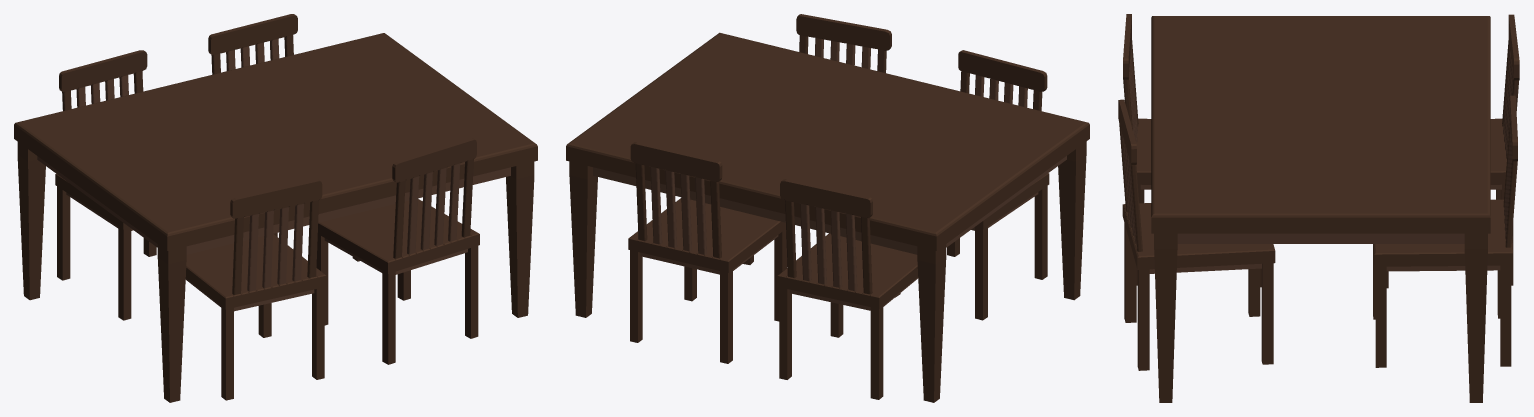
File: table.glb
3 renders of one model, left to right at view 1: azimuth 30°, elevation 25°; view 2: azimuth 150°, elevation 25°; view 3: azimuth 270°, elevation 25°, orthographic. The views are drawn at different scales.
Parts seen in each view (by area): view 1: table, Chair 4, Chair 3, Chair 2, Chair 1; view 2: table, Chair 1, Chair 2, Chair 3, Chair 4; view 3: table, Chair 4, Chair 1, Chair 2, Chair 3.
Boxes of the visible parts, left/top/right/bottom form: table: left=14, top=33, right=537, bottom=402; Chair 4: left=316, top=138, right=479, bottom=364; Chair 3: left=185, top=179, right=326, bottom=400; Chair 2: left=55, top=50, right=156, bottom=320; Chair 1: left=208, top=14, right=359, bottom=261; table: left=566, top=32, right=1089, bottom=402; Chair 1: left=628, top=142, right=787, bottom=363; Chair 2: left=777, top=179, right=918, bottom=399; Chair 3: left=895, top=50, right=1049, bottom=320; Chair 4: left=743, top=14, right=891, bottom=264; table: left=1151, top=16, right=1490, bottom=402; Chair 4: left=1118, top=99, right=1275, bottom=370; Chair 1: left=1373, top=95, right=1517, bottom=367; Chair 2: left=1386, top=14, right=1519, bottom=288; Chair 3: left=1123, top=14, right=1261, bottom=287.
Bounding box in the file's own units: 2.02 × 1.05 × 1.71.
